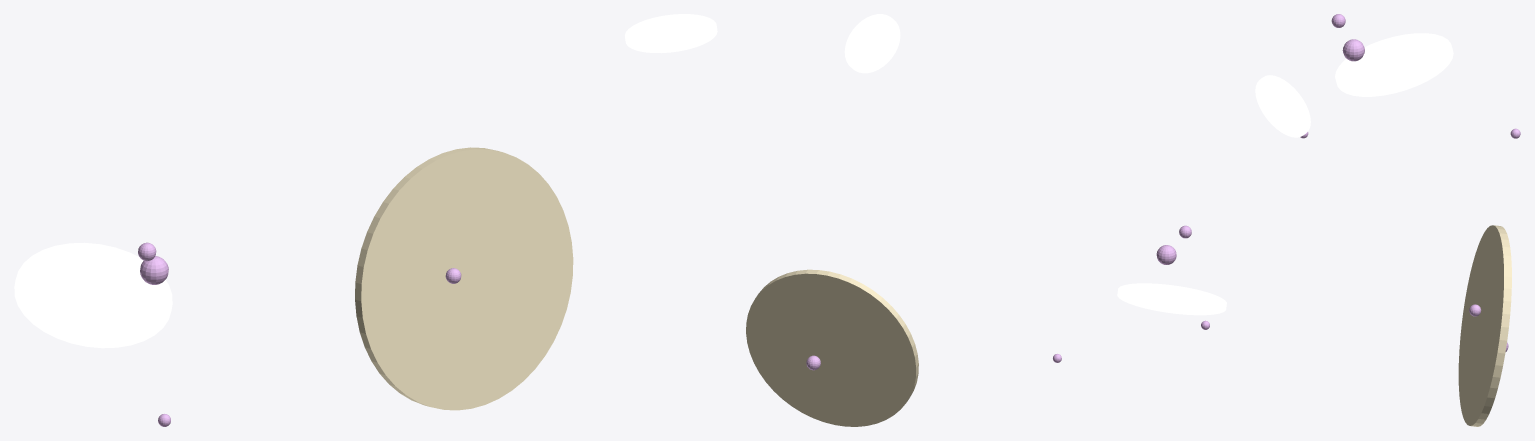
Rendered from local_group_galaxies.fbx.
The picture shows the model from 3 angles, left to right: view 1: azimuth 30°, elevation 25°; view 2: azimuth 150°, elevation 25°; view 3: azimuth 270°, elevation 25°; orthographic projection. The views are drawn at different scales.
Parts seen in each view (by area): view 1: LG_Andromeda_M31, LG_MilkyWay, LG_Triangulum_M33; view 2: LG_Andromeda_M31, LG_MilkyWay, LG_Triangulum_M33; view 3: LG_Andromeda_M31, LG_MilkyWay, LG_Triangulum_M33, Large_Magellanic_Cloud.
Boxes of the visible parts, left/top/right/bottom form: LG_Andromeda_M31: left=355, top=147, right=573, bottom=410; LG_MilkyWay: left=14, top=242, right=172, bottom=348; LG_Triangulum_M33: left=625, top=14, right=717, bottom=53; LG_Andromeda_M31: left=746, top=269, right=918, bottom=426; LG_MilkyWay: left=1117, top=283, right=1226, bottom=315; LG_Triangulum_M33: left=844, top=14, right=900, bottom=73; LG_Andromeda_M31: left=1458, top=225, right=1511, bottom=426; LG_MilkyWay: left=1335, top=33, right=1453, bottom=96; LG_Triangulum_M33: left=1255, top=75, right=1310, bottom=137; Large_Magellanic_Cloud: left=1342, top=39, right=1364, bottom=61.
Bounding box in the file's own units: 10691 × 7910 × 5250.
